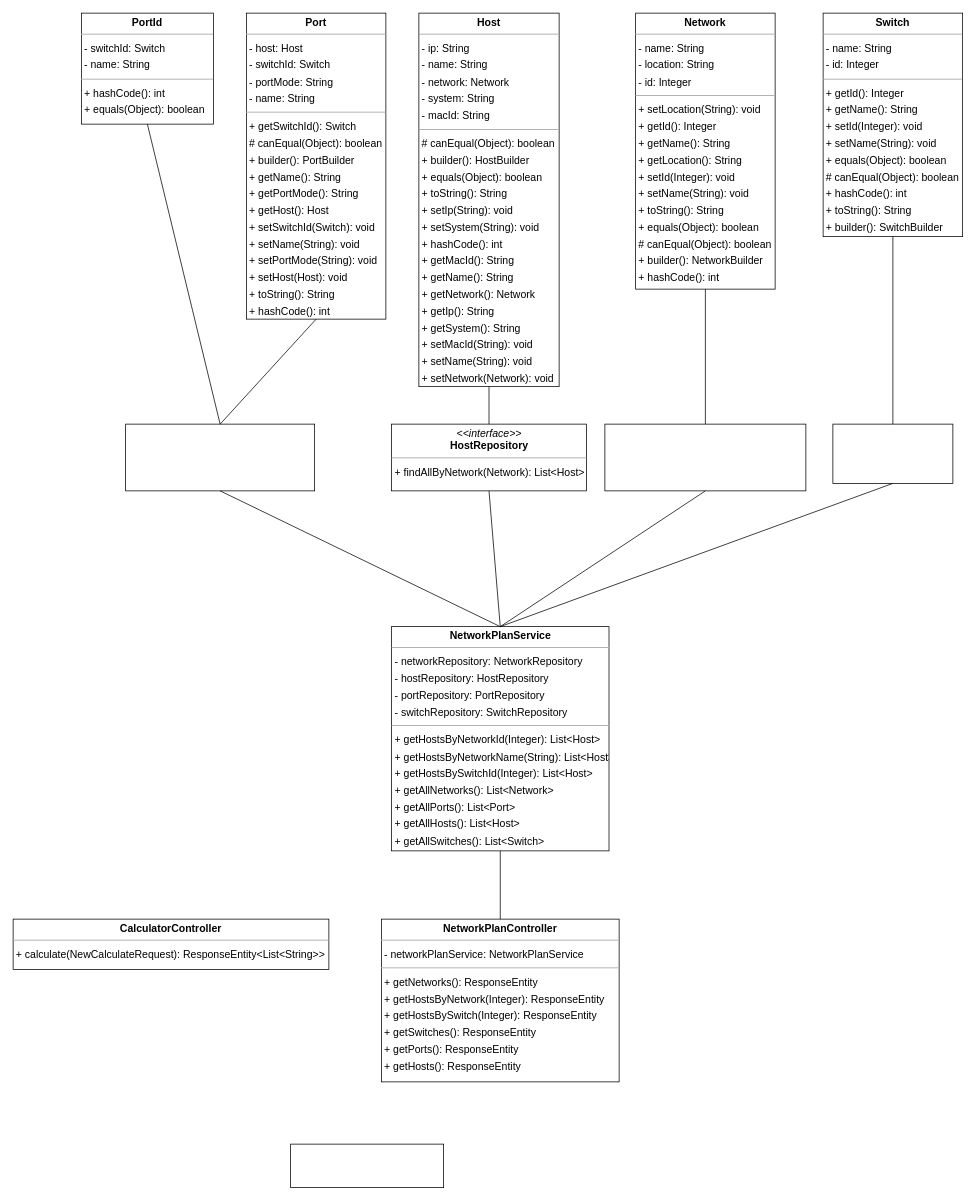
This 976x1201 diagram has some shape labels left out. The centre of each missing label's shape, as x and y in pixels:
<<interface>> NetworkRepository + findByName(String): Optional<Network>: the point at 705,457
<<interface>> PortRepository + findAllBySwitchId(Switch): List<Port>: the point at 220,457
<<interface>> SwitchRepository: the point at 892,453
NetworkPlanApplication + main(String[]): void: the point at 367,1165
